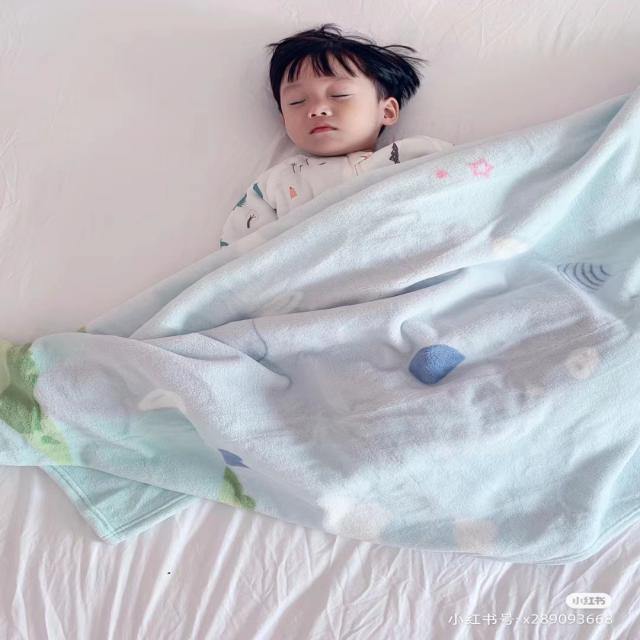child: (220, 22, 458, 171)
